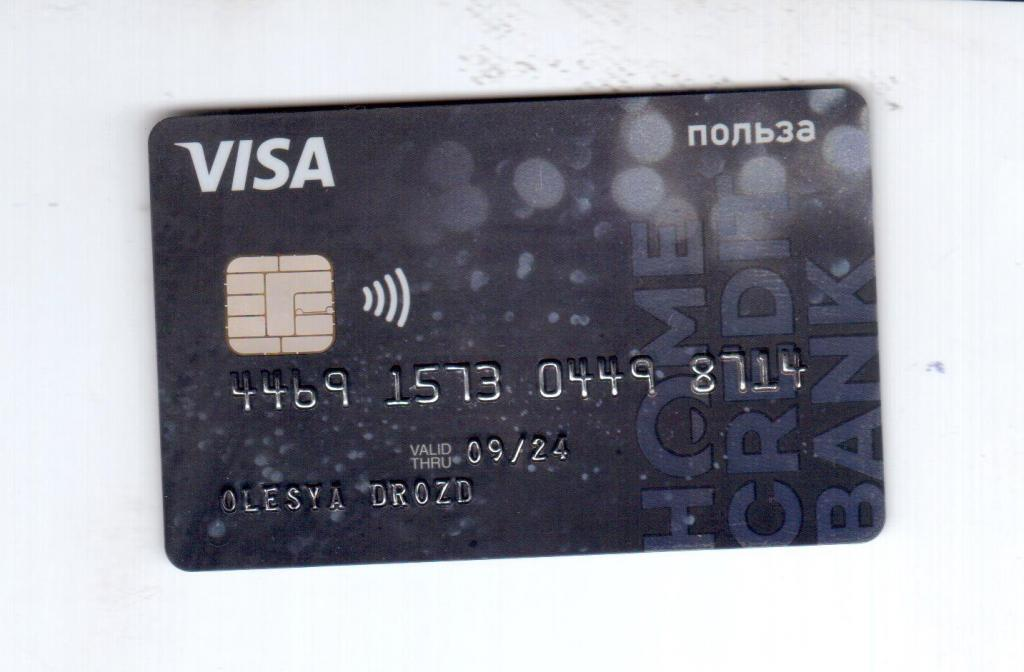card: (146, 86, 888, 572)
